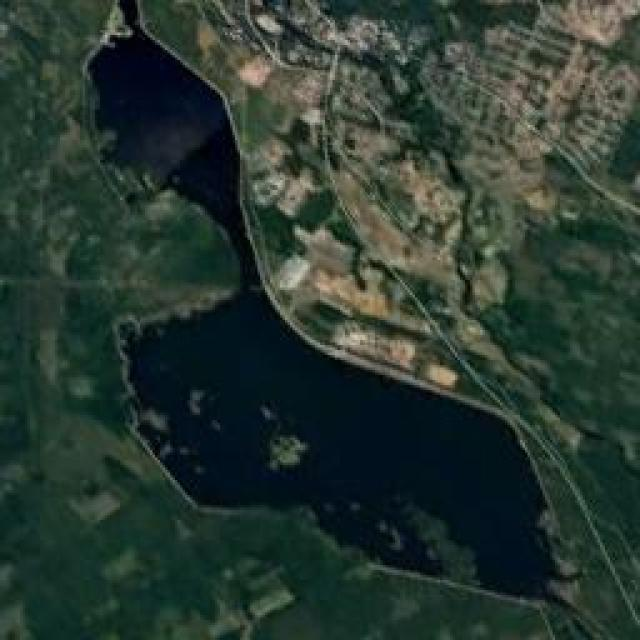Lake: (39, 22, 567, 620)
